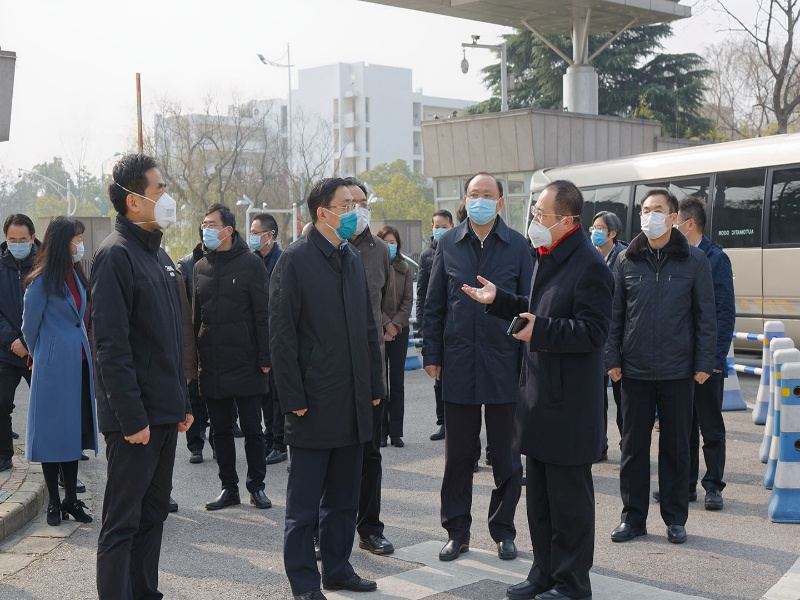ManaoArotava: (111, 151, 185, 241), (299, 162, 362, 249), (526, 183, 580, 258), (456, 166, 510, 230), (195, 201, 250, 257), (59, 215, 104, 274), (1, 205, 44, 266), (641, 188, 684, 245)
